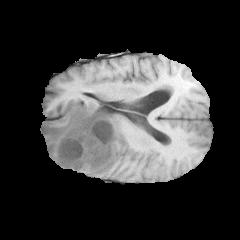glioma: (40, 102, 129, 173)
